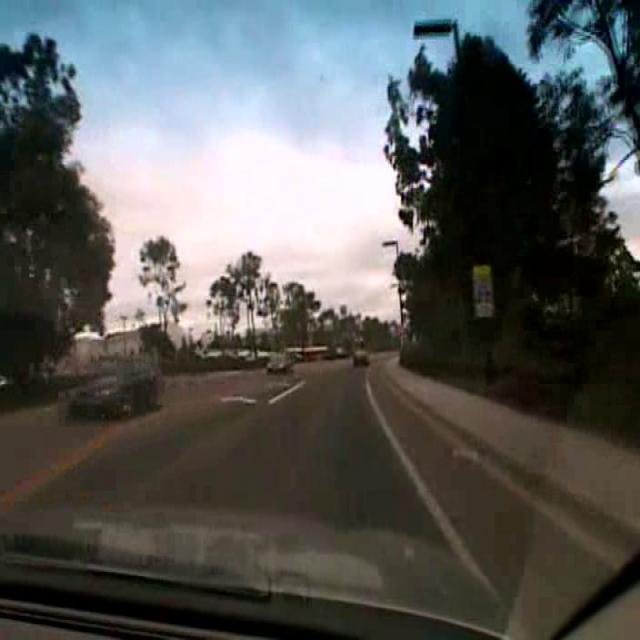speedLimit25: (472, 263, 493, 317)
